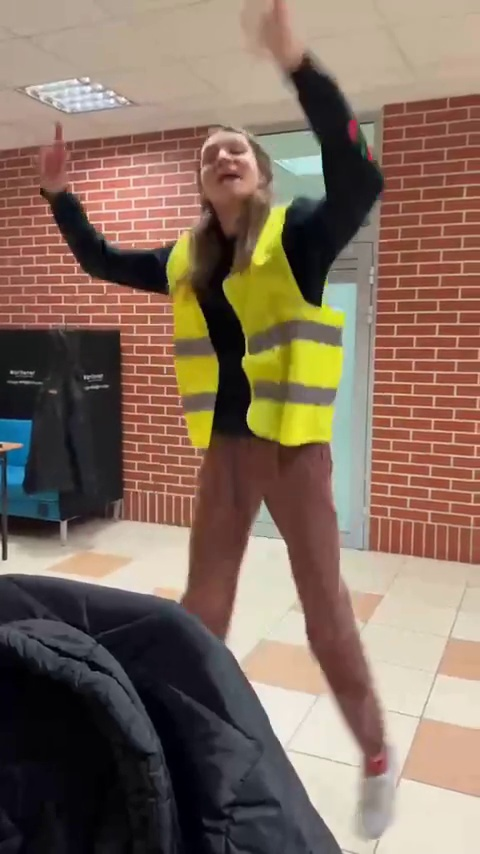vest: (132, 178, 411, 788)
